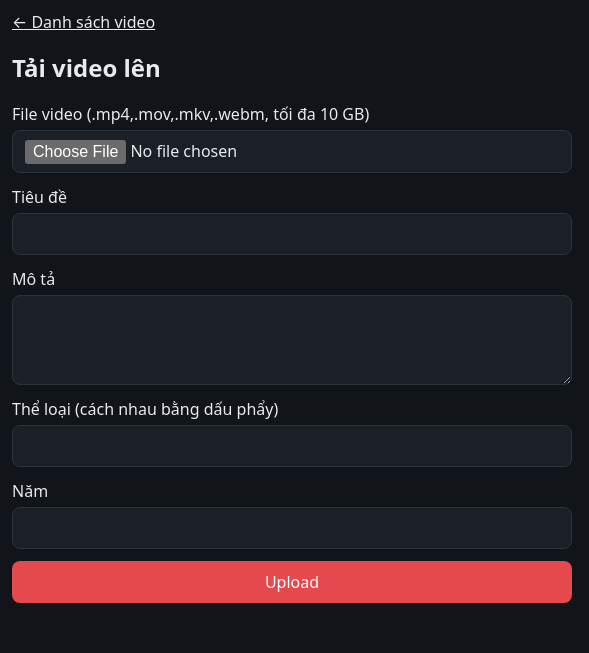
Test: AdminUploadPage › kiểm tra form trước khi gọi API
Later steps or results of the test are not shown.
Click the button "Upload": (292, 582) [12, 561, 572, 603]
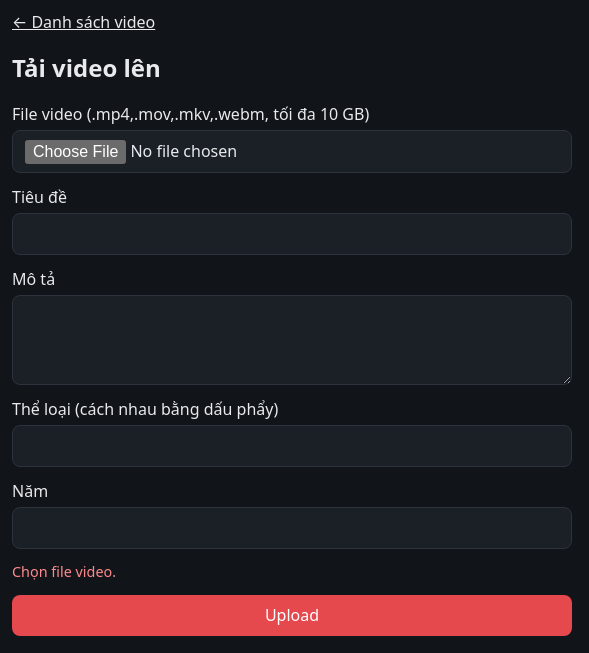
Expected: the message reads "Chọn file video.", [12, 562, 116, 581]
